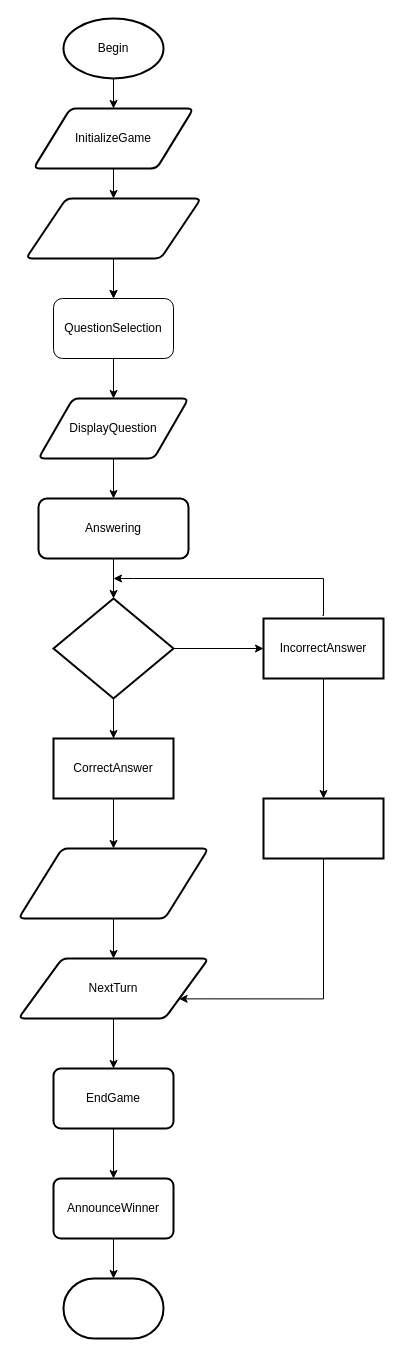
Some shapes in this 401 by 1356 pixel diagram are drawn without their labels. Here are the shapes that lost their labels. From the top down, the centre of each, then its label:
point (113, 228): Display categories
point (113, 648): CheckAnswer
point (323, 828): UpdateScore (Substract Points)
point (113, 883): UpdateScore (Add Points)
point (113, 1308): End
